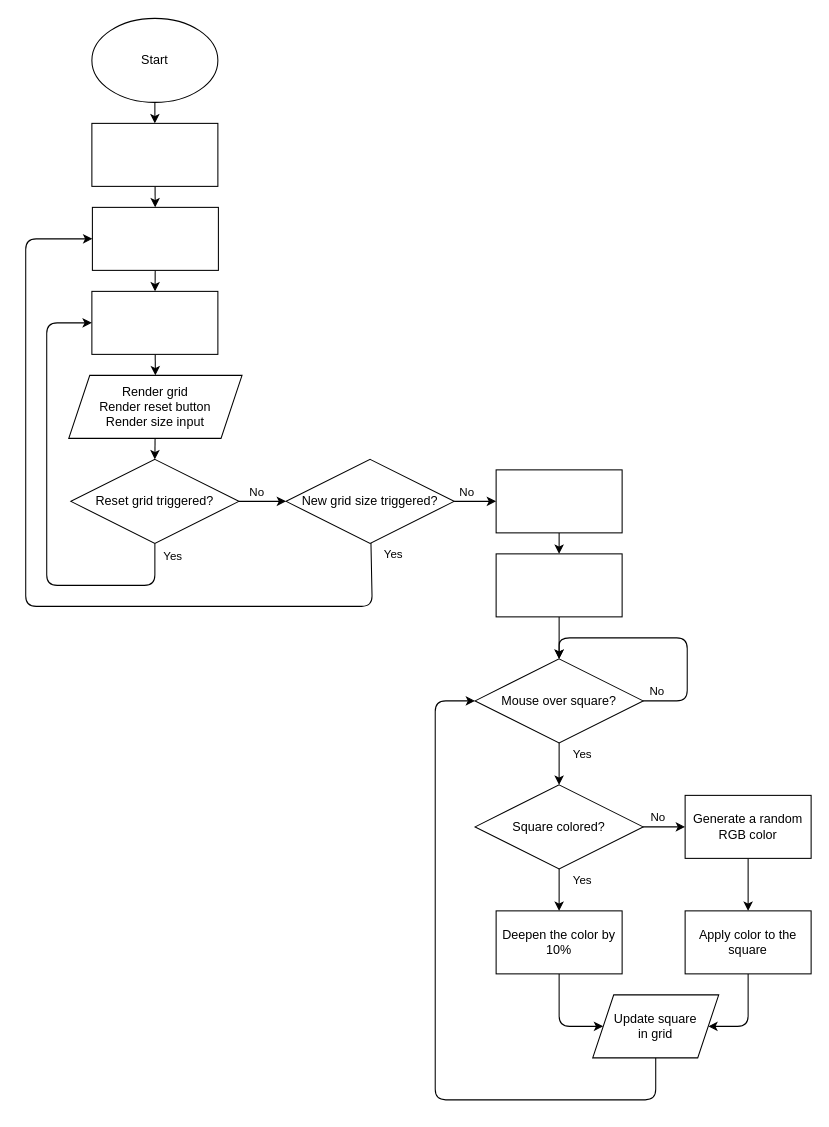
This 829x1127 diagram has some shape labels left out. The box of each missing label's shape, as (x1, y1, x2, y2) in pixels:
Apply grid size: (91, 206, 218, 270)
Apply mouse-over event listeners to squares: (495, 553, 622, 617)
Loop through the squares in grid: (495, 469, 622, 533)
Reset grid: (91, 290, 218, 354)
Set default grid size to 16×16: (91, 122, 218, 186)
